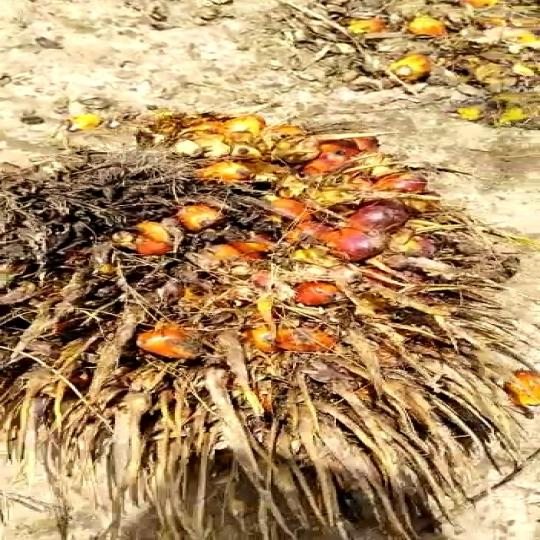terlalu masak: (0, 100, 540, 540)
